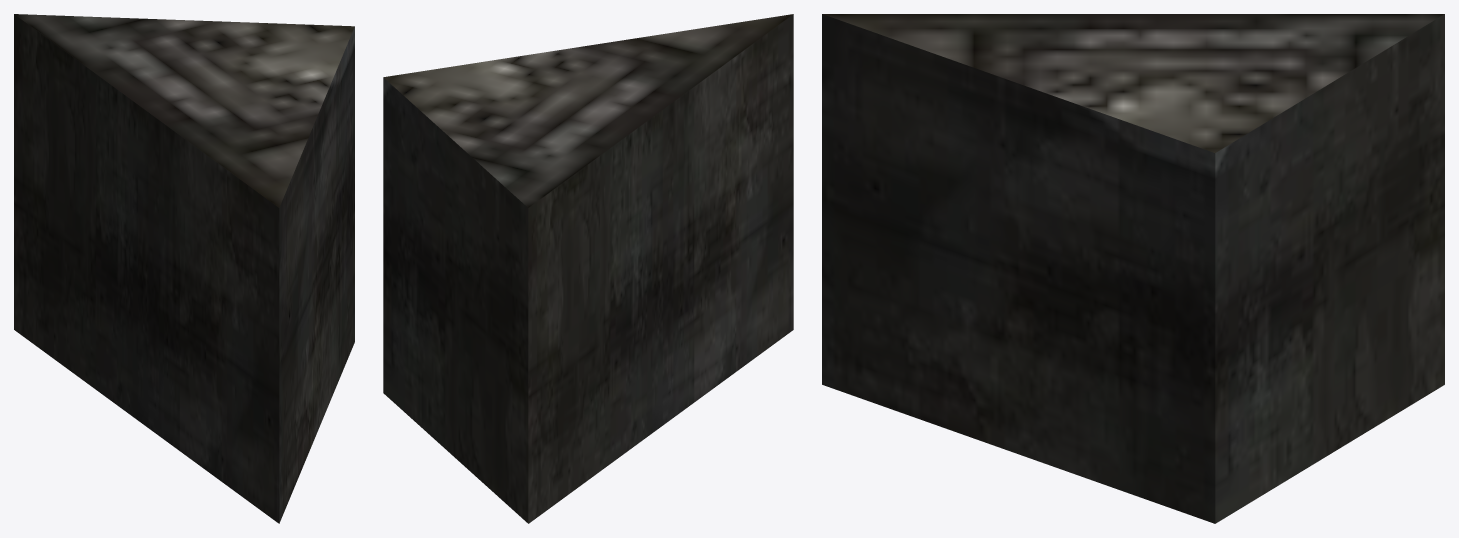
The model's file is piece01_02.glb.
3 renders of one model, left to right at view 1: azimuth 30°, elevation 25°; view 2: azimuth 150°, elevation 25°; view 3: azimuth 270°, elevation 25°, orthographic. The views are drawn at different scales.
Visible parts, largest first — view 1: model_piece01_02; view 2: model_piece01_02; view 3: model_piece01_02.
Boxes of the visible parts, box(x1,y1,x2,y2) form: model_piece01_02: box(14, 14, 354, 523); model_piece01_02: box(383, 14, 793, 523); model_piece01_02: box(822, 14, 1444, 523).
Bounding box in the file's own units: 0.37 × 0.4595 × 0.6994.
Materials: 1 (1 with a texture image).
